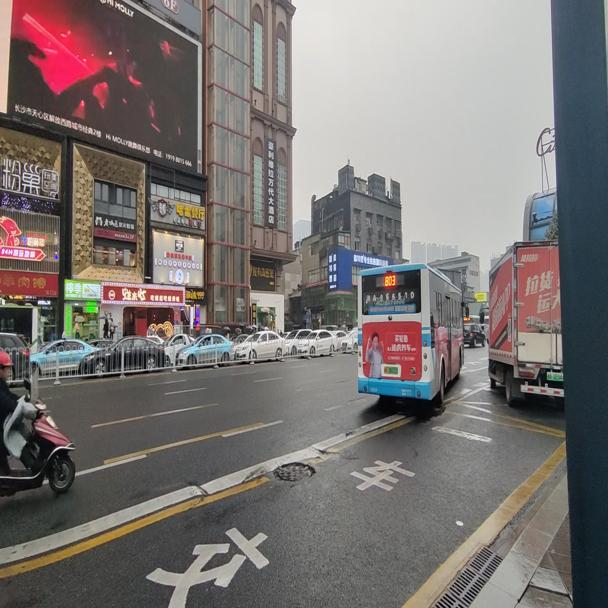bus: (357, 260, 469, 406)
screen: (384, 274, 396, 287)
